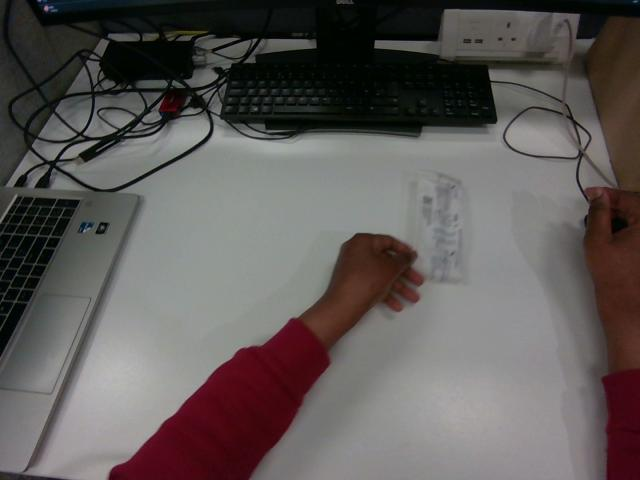syringe: (416, 172, 463, 282)
